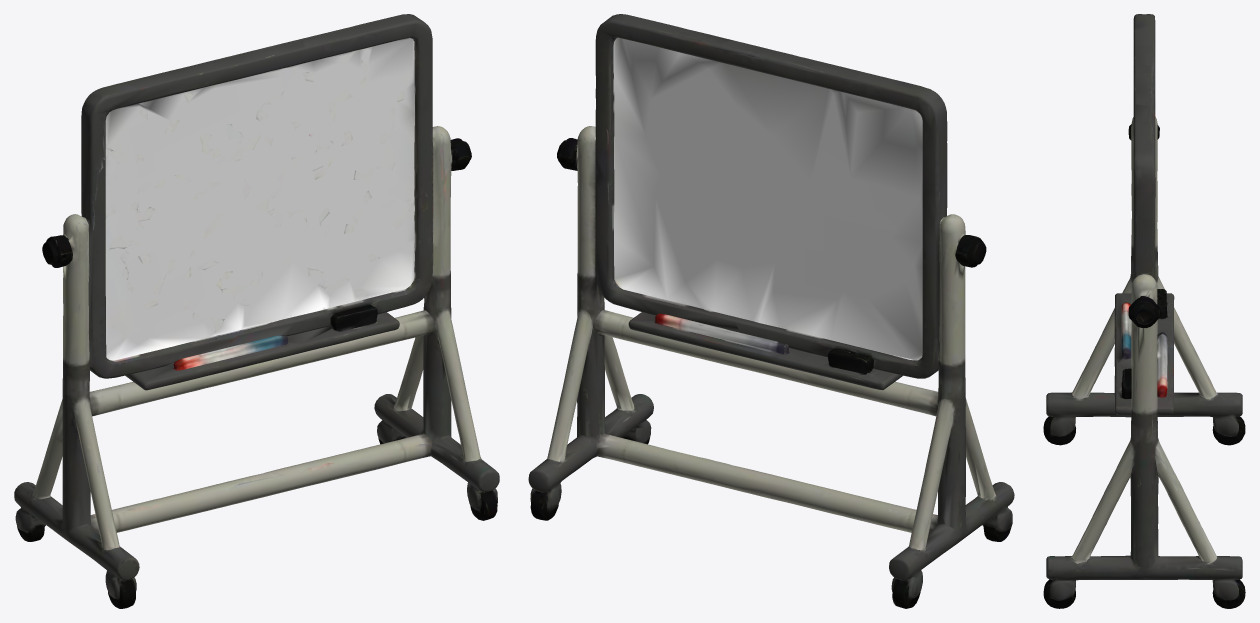
File: whiteboard.glb
The picture shows the model from 3 angles, left to right: view 1: azimuth 30°, elevation 25°; view 2: azimuth 150°, elevation 25°; view 3: azimuth 270°, elevation 25°; orthographic projection. The views are drawn at different scales.
Parts seen in each view (by area): view 1: geometry_0; view 2: geometry_0; view 3: geometry_0.
Part boxes in pixels (x1=…): geometry_0: x1=14, y1=14, x2=499, y2=608; geometry_0: x1=528, y1=14, x2=1014, y2=608; geometry_0: x1=1043, y1=14, x2=1245, y2=608.
Size of the model in its own units: 0.9265 by 1 by 0.4169.
Materials: 1 (1 with a texture image).
